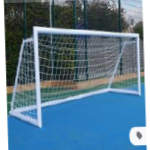goals: (10, 24, 142, 129)
